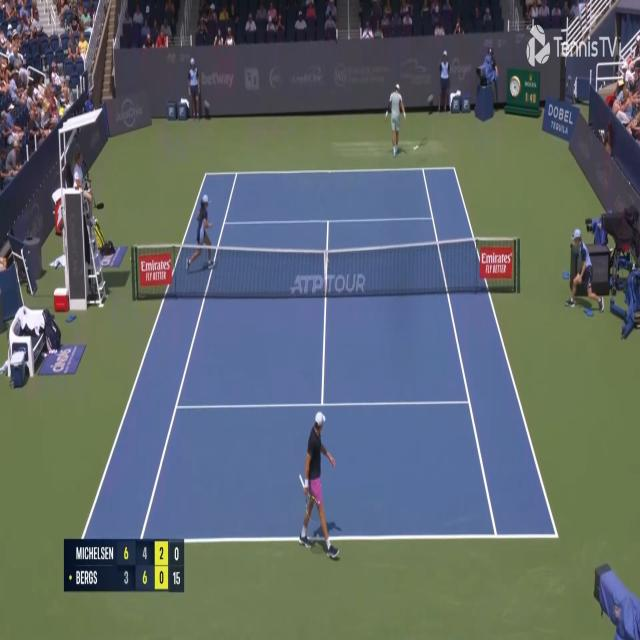tennis-player: (296, 408, 342, 564), (384, 80, 407, 158)
